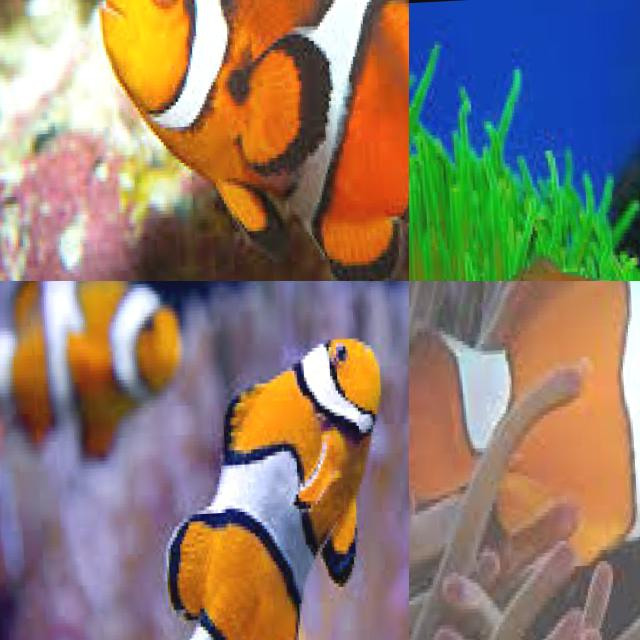Amphiprion-percula: (63, 314, 409, 640), (102, 0, 409, 281), (409, 281, 640, 596), (0, 281, 190, 500), (456, 193, 640, 281)
